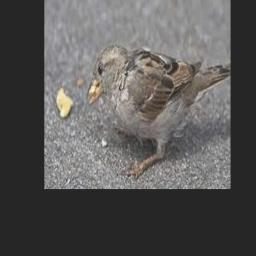Sparrow: (86, 44, 231, 179)
